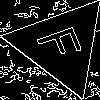F: (36, 20, 92, 65)
